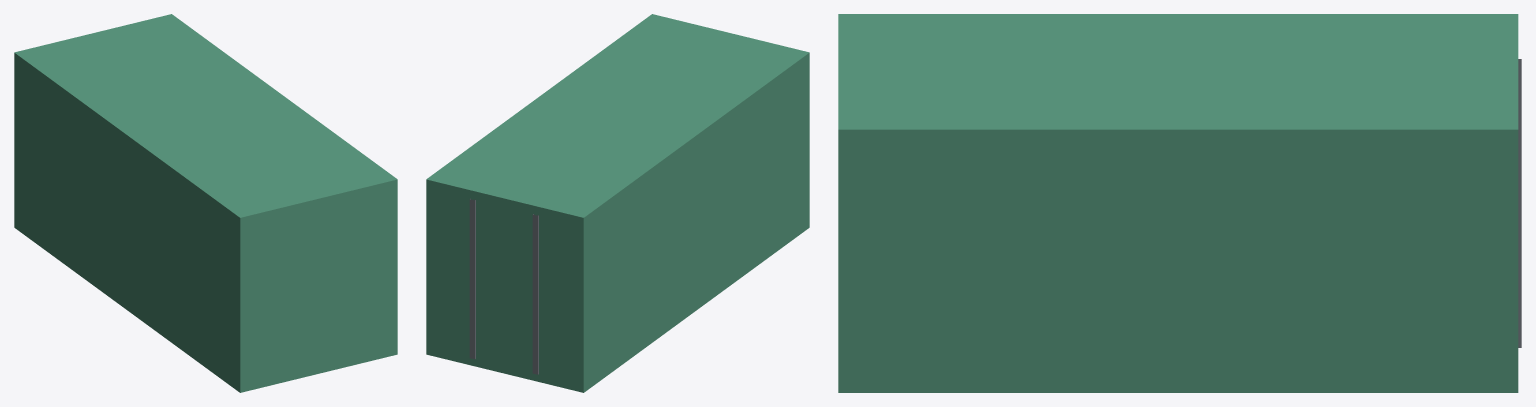
The model's file is port_container2.fbx.
3 renders of one model, left to right at view 1: azimuth 30°, elevation 25°; view 2: azimuth 150°, elevation 25°; view 3: azimuth 270°, elevation 25°, orthographic. The views are drawn at different scales.
Visible parts, largest first — view 1: a403_0_port_container2; view 2: a403_0_port_container2; view 3: a403_0_port_container2.
Part boxes in pixels (x1,y1,x2,y2): a403_0_port_container2: (14, 14, 397, 392); a403_0_port_container2: (426, 14, 809, 392); a403_0_port_container2: (838, 14, 1521, 392).
Size of the model in its own units: 2.44 by 2.59 by 6.09.
